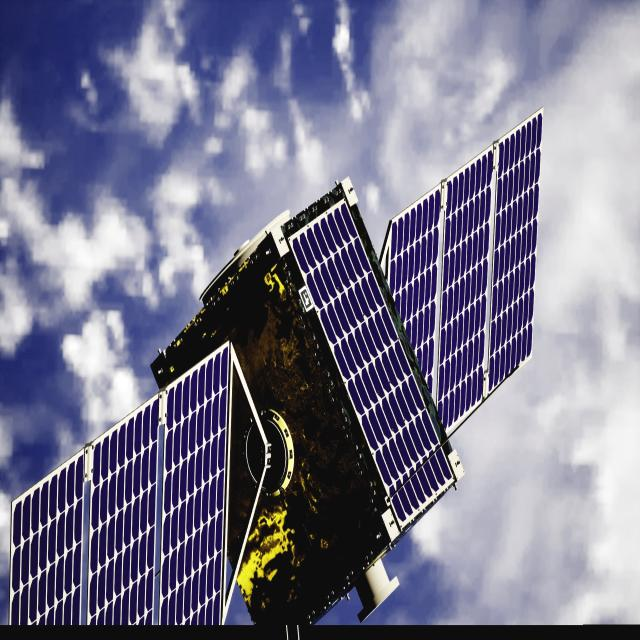satellite: (9, 117, 543, 640)
